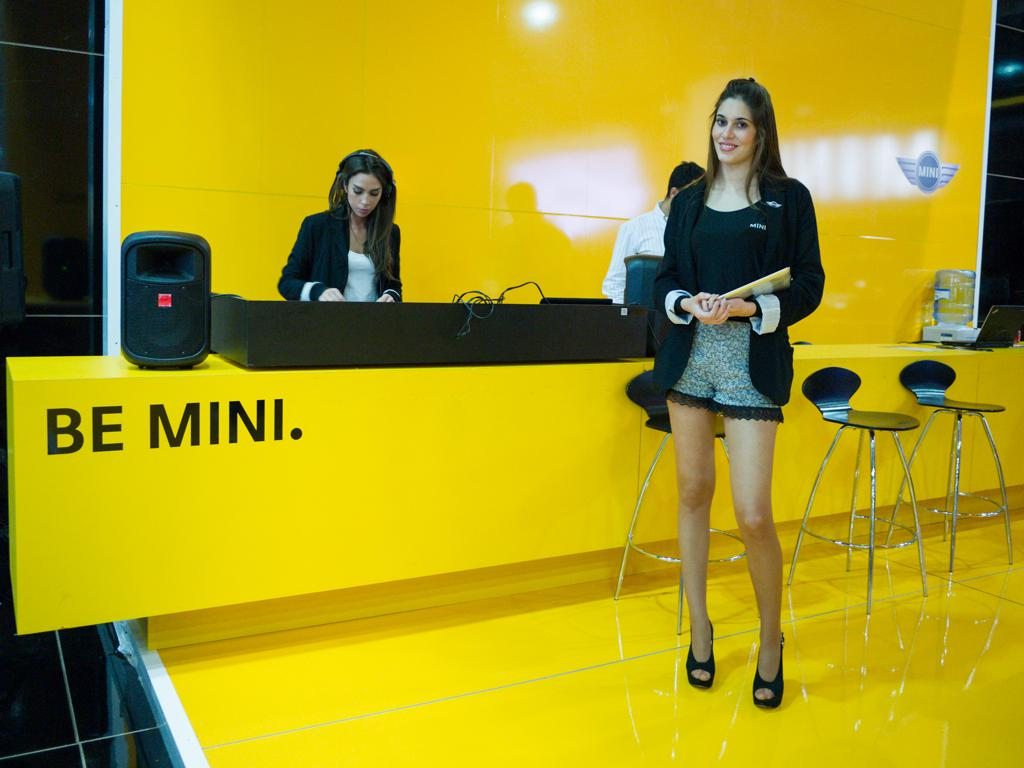Chair: (611, 370, 748, 634), (788, 367, 929, 611), (882, 358, 1015, 573)
